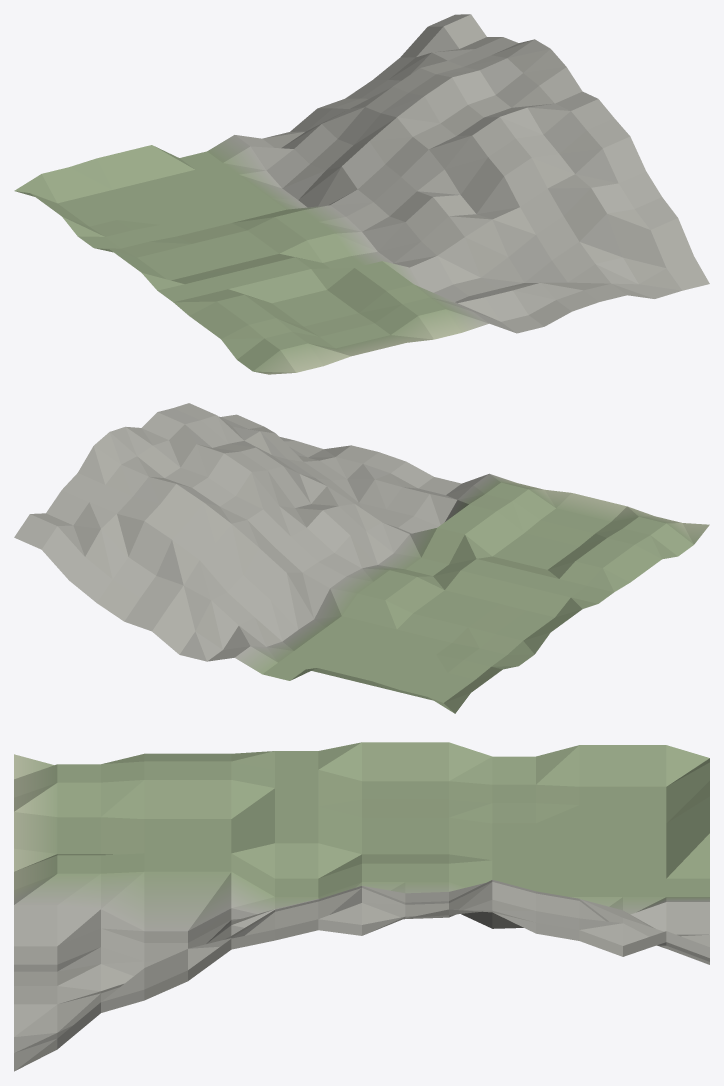
3 renders of one model, top to bottom at view 1: azimuth 30°, elevation 25°; view 2: azimuth 150°, elevation 25°; view 3: azimuth 270°, elevation 25°, orthographic. The views are drawn at different scales.
Size of the model in its own units: 32 by 8.56 by 32.
